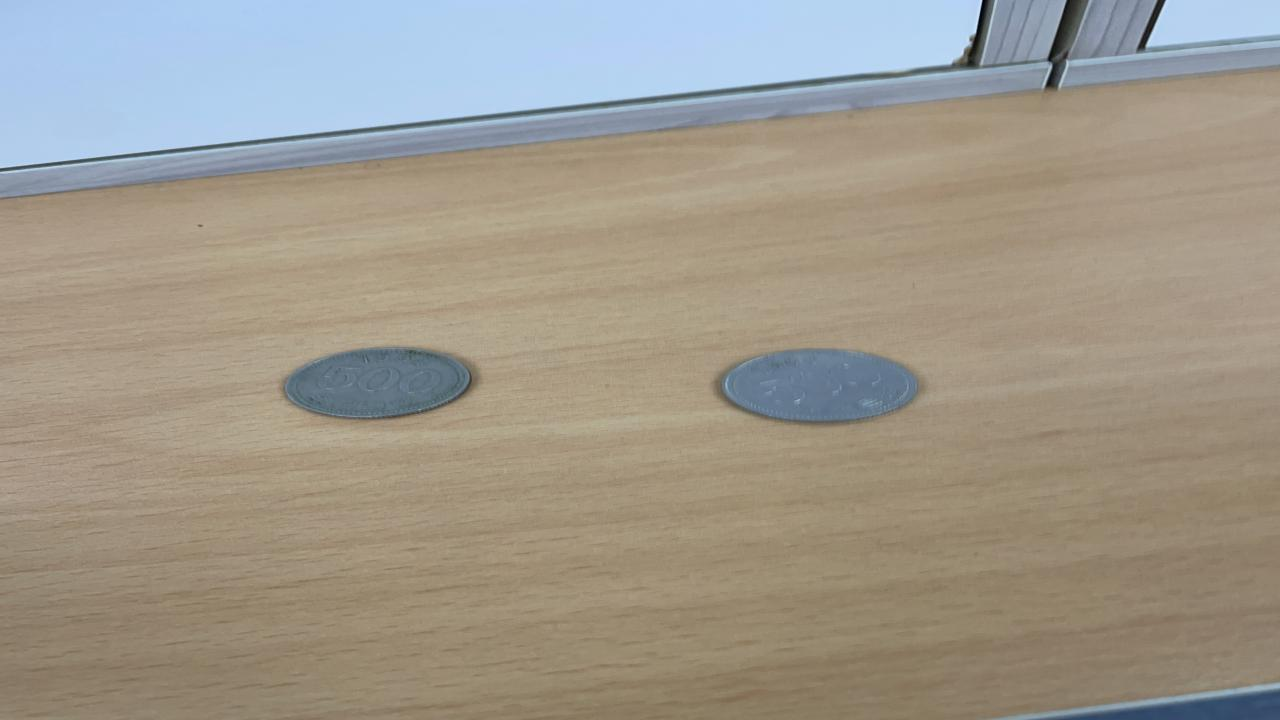coin: (717, 348, 921, 424), (280, 346, 474, 420)
